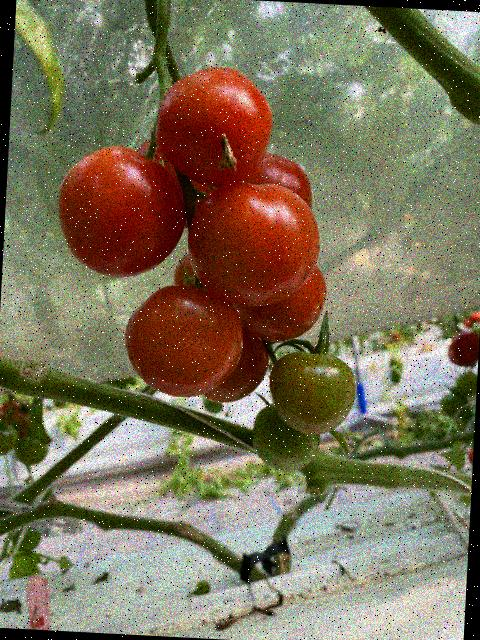l_fully_ripened: (54, 142, 190, 282), (185, 180, 323, 309), (151, 64, 276, 190), (122, 282, 247, 400), (225, 261, 327, 345), (202, 321, 272, 405), (241, 152, 316, 211)
l_green: (266, 350, 359, 438), (249, 403, 322, 473)
